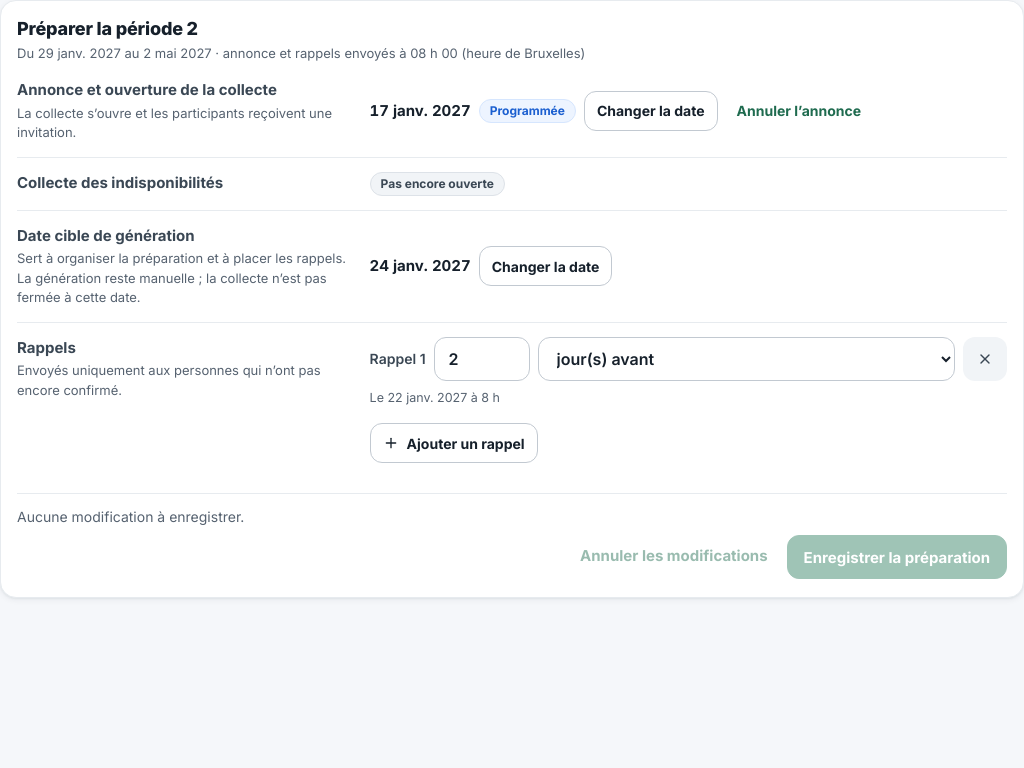
Test: PeriodPreparationPanel — adding a reminder (Trauma Delta, 17 → 24 January 2027) › keeps the draft and says why when the server refuses or cannot be reached
Click the button "Ajouter un rappel". click: click(454, 443)
box: [370,423,538,463]
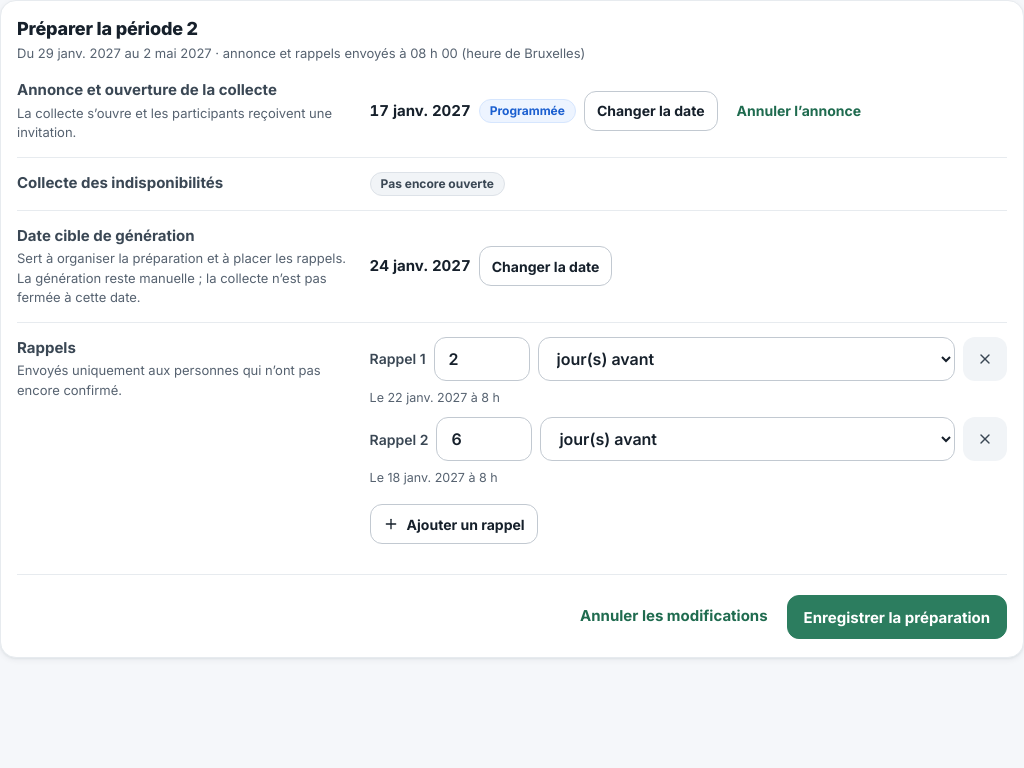
Click the button "Enregistrer la préparation". click: click(897, 617)
box: [787,595,1007,639]
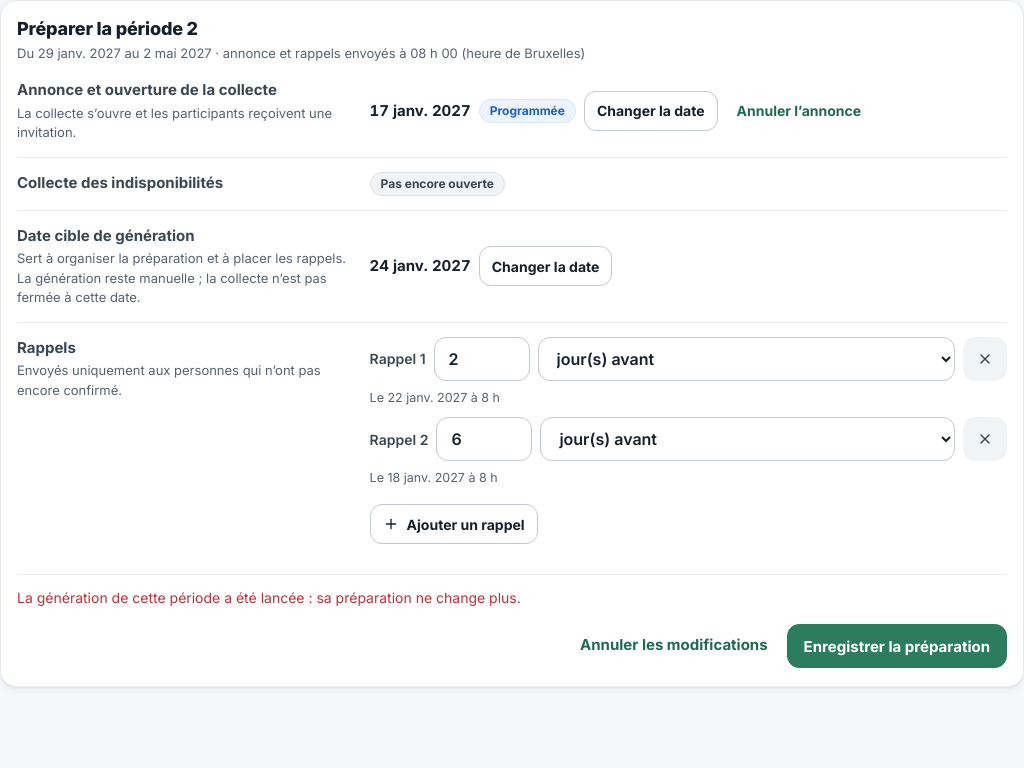
Check: the number field named "Rappel 2 : combien avant la date cible" holds "6", box [436,417,532,461]
Check: the message reads "La génération de cette période a été lancée : sa préparation ne change plus.", box [17,589,521,606]
Click the button "Enregistrer la préparation". click: click(897, 646)
box: [787,624,1007,668]
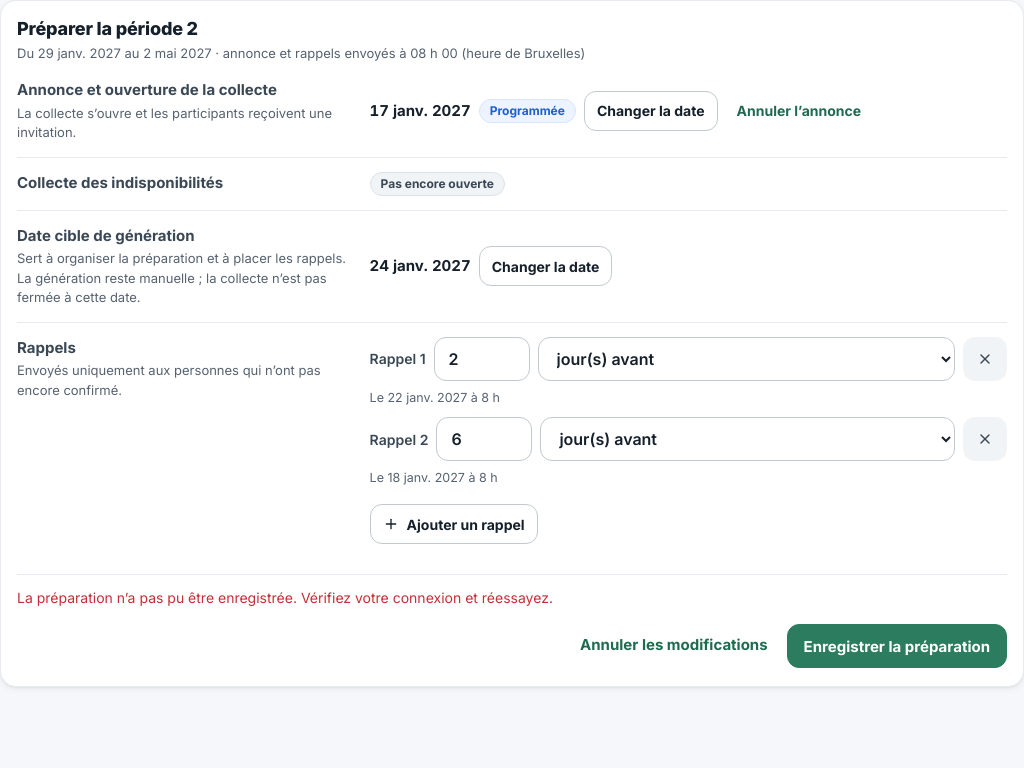
Check: the number field named "Rappel 2 : combien avant la date cible" holds "6", box [436,417,532,461]
Check: the button "Enregistrer la préparation" is enabled, box [787,624,1007,668]
Check: the message shows "La préparation n’a pas pu être enregistrée. Vérifiez votre connexion et réessayez.", box [17,589,553,606]
